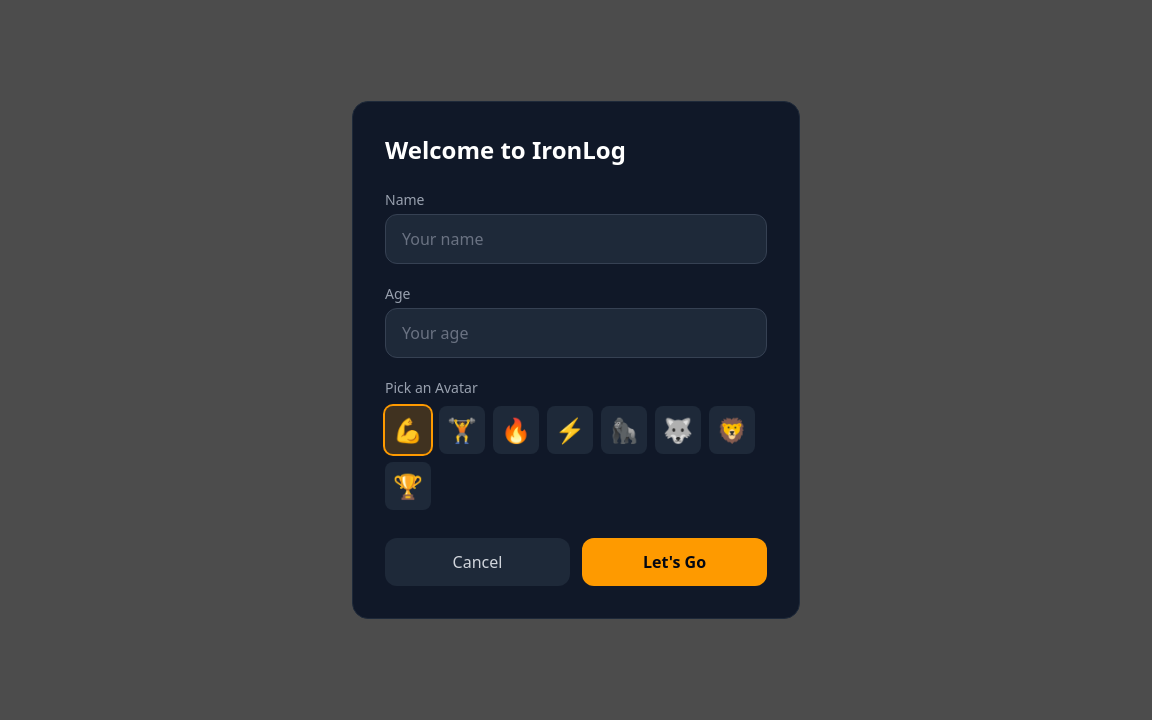
SignInModal › shows error when age is below 13
Type "Test" into the field with test id "name-input" at coordinates (576, 239), box [385,214,767,264]
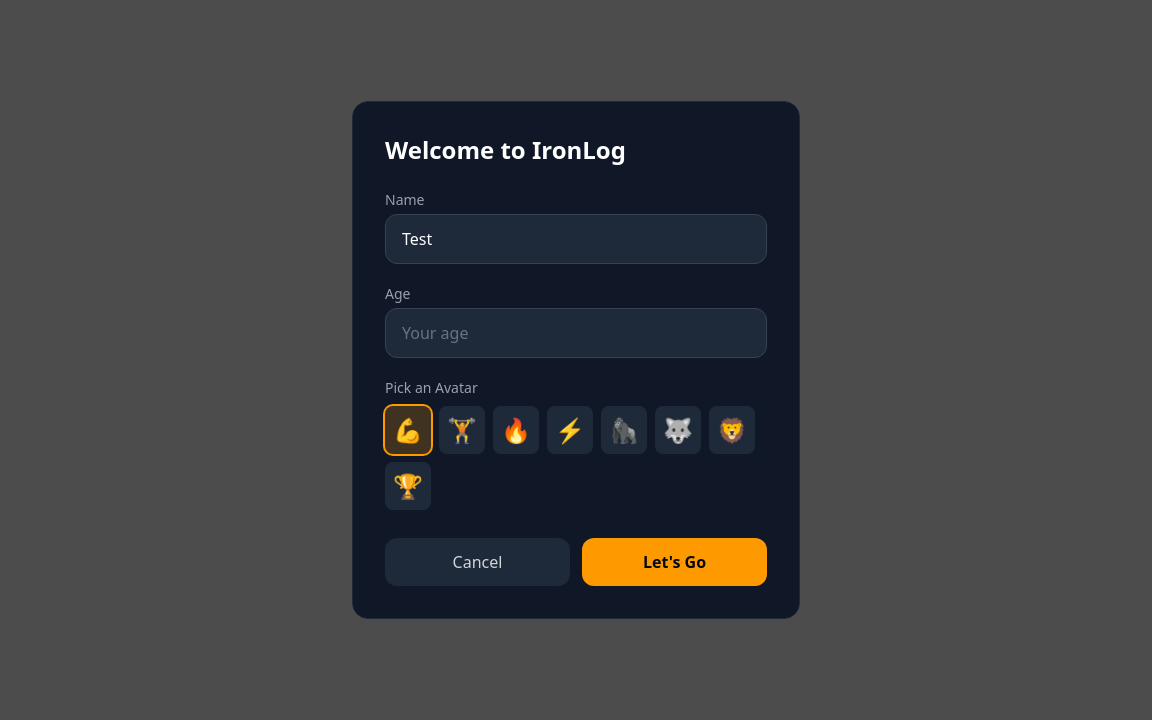
Type "10" into the number field with test id "age-input" at coordinates (576, 333), box [385,308,767,358]
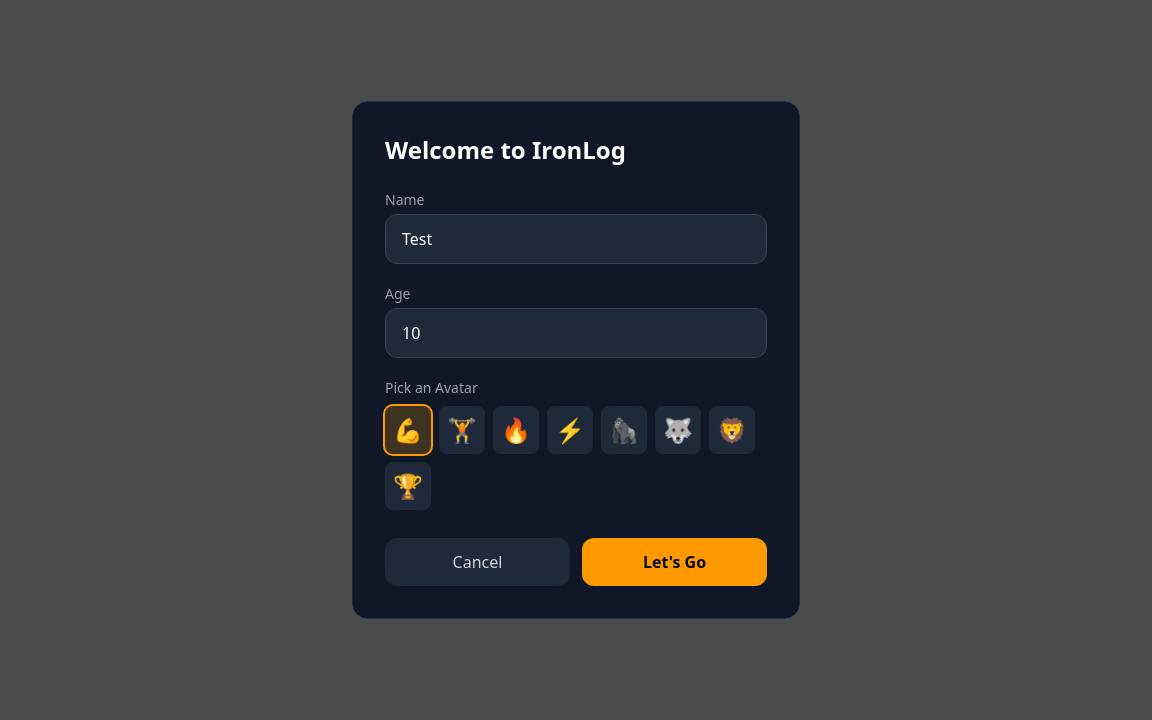
Click the button with test id "signin-submit" at coordinates (674, 562), box [582,538,767,586]
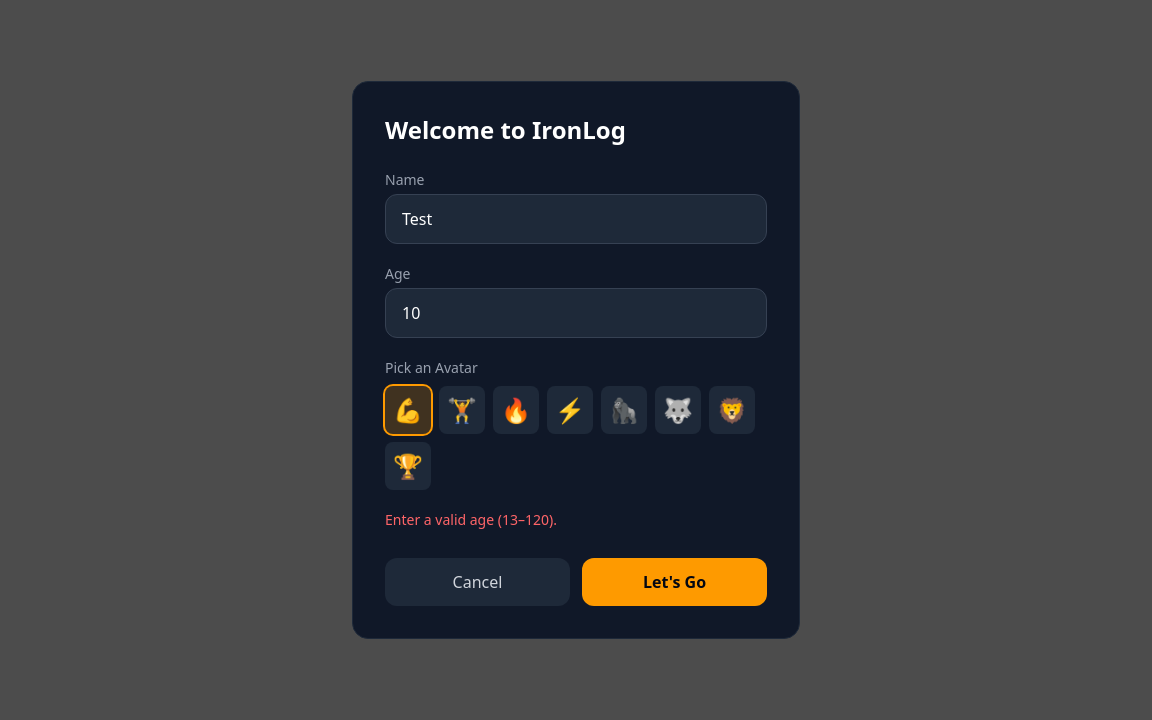
Now the text "Enter a valid age (13–120)." is shown, box [385,510,557,529]
